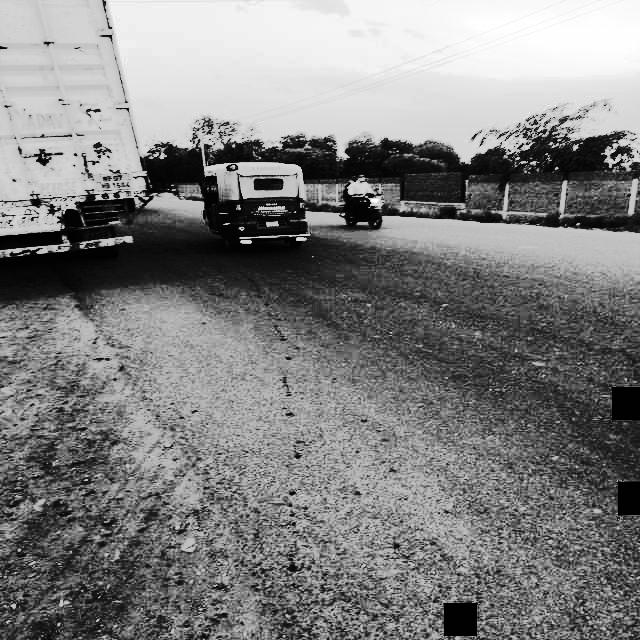Auto-Rickshaw: (191, 157, 313, 257)
